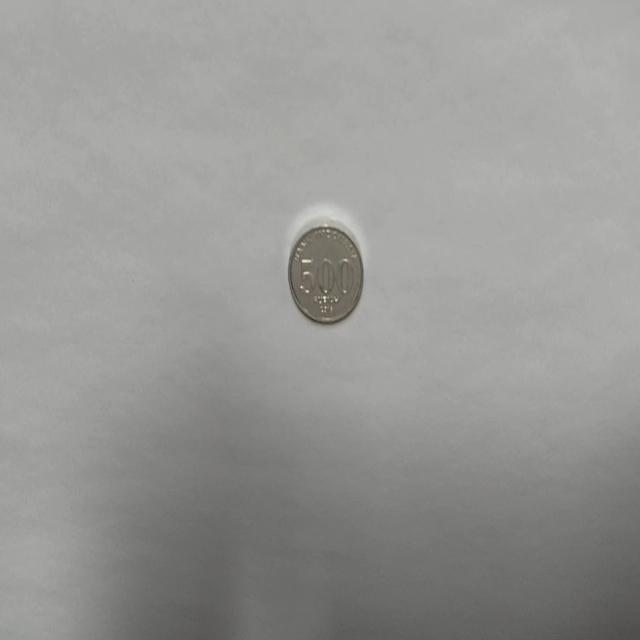lima ratus rupiah: (286, 220, 364, 324)
